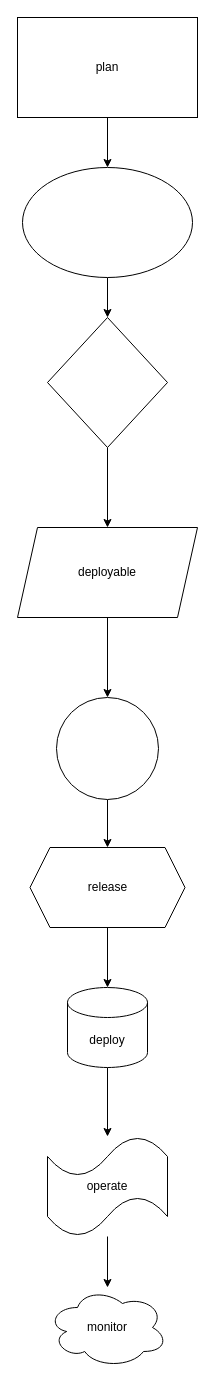
This 215x1385 diagram has some shape labels left out. The shapes that lost their labels are listed below. From the top down, each one's centre as x and y in pixels, then its label:
the point at 107,222: develop
the point at 107,382: build
the point at 107,748: test
